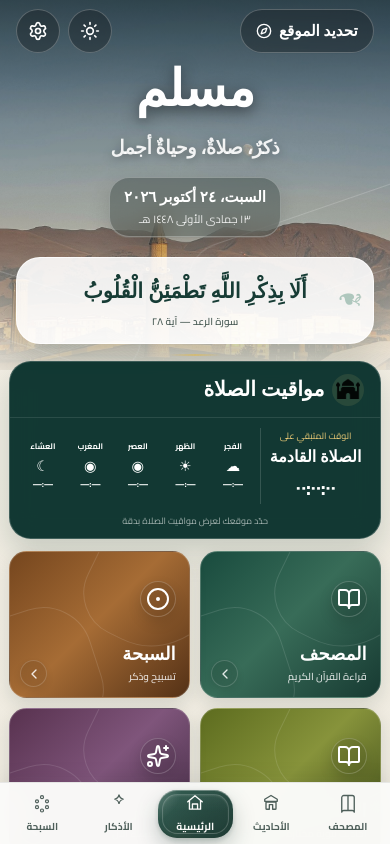
Test: App user journeys › navigates home → mushaf → surah list and can filter by number
Expected: the text "مسلم" is shown, [136, 61, 254, 119]
Click the button "المصحف" at (348, 813), box [310, 789, 386, 837]
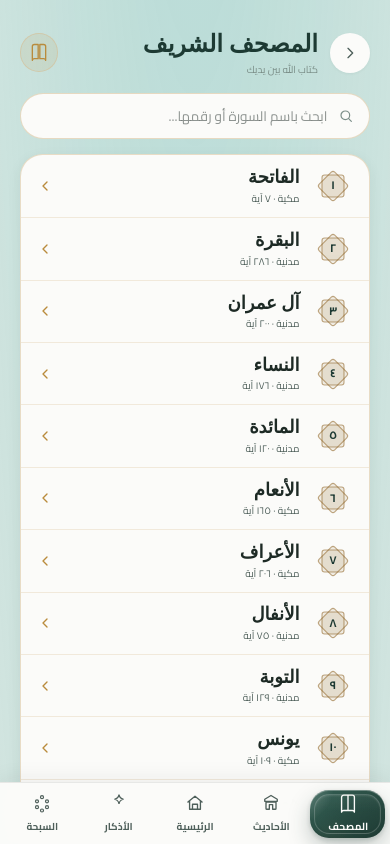
Expected: the text "المصحف الشريف" is shown, [143, 31, 318, 57]
Type "1" into the field with placeholder "ابحث باسم السورة أو رقمها..." at (195, 116), box [20, 93, 370, 139]
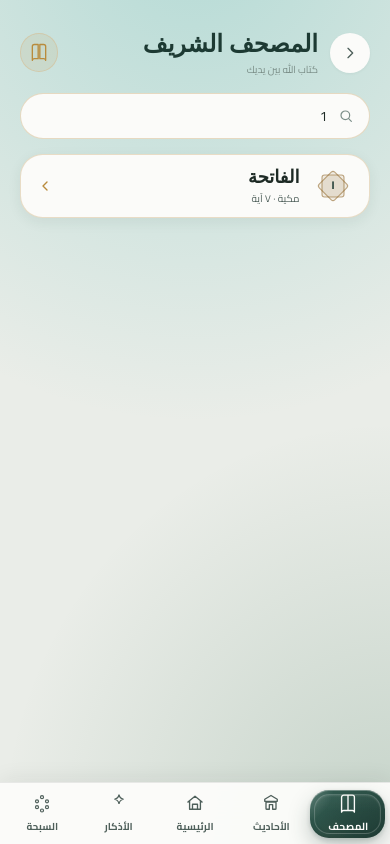
Expected: the text "الفاتحة" is shown, [248, 167, 299, 187]
Expected: the button "البقرة" is gone
